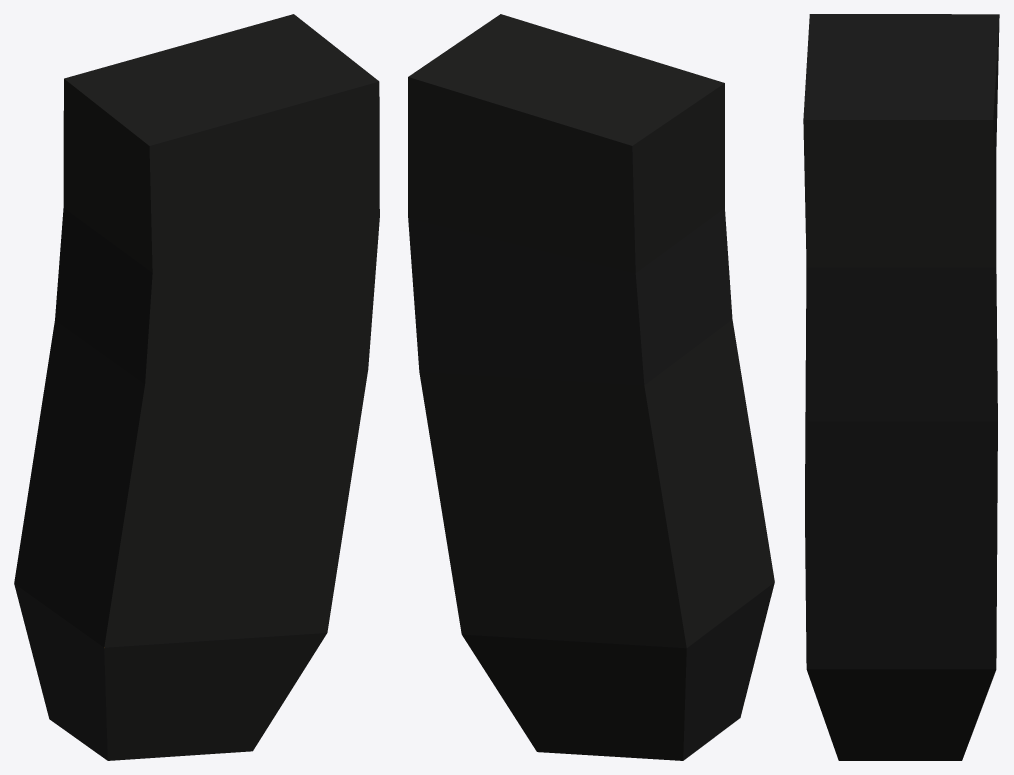
Rendered from magazine.fbx.
The picture shows the model from 3 angles, left to right: view 1: azimuth 30°, elevation 25°; view 2: azimuth 150°, elevation 25°; view 3: azimuth 270°, elevation 25°; orthographic projection. The views are drawn at different scales.
Visible parts, largest first — view 1: Cube; view 2: Cube; view 3: Cube.
Part boxes in pixels (x1=…): Cube: x1=14, y1=14, x2=379, y2=760; Cube: x1=408, y1=14, x2=774, y2=760; Cube: x1=803, y1=14, x2=999, y2=760.
Bounding box in the file's own units: 91.08 × 205 × 52.04.
